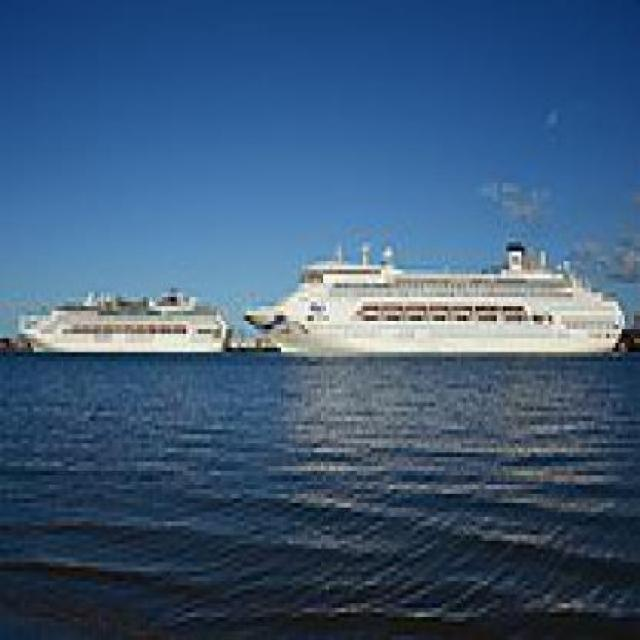cruise: (236, 230, 636, 367), (13, 266, 236, 367)
